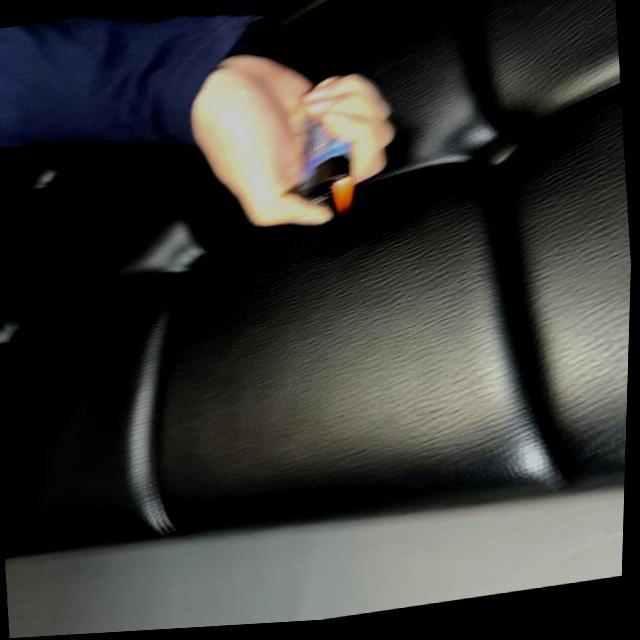helmet: (328, 179, 357, 220)
